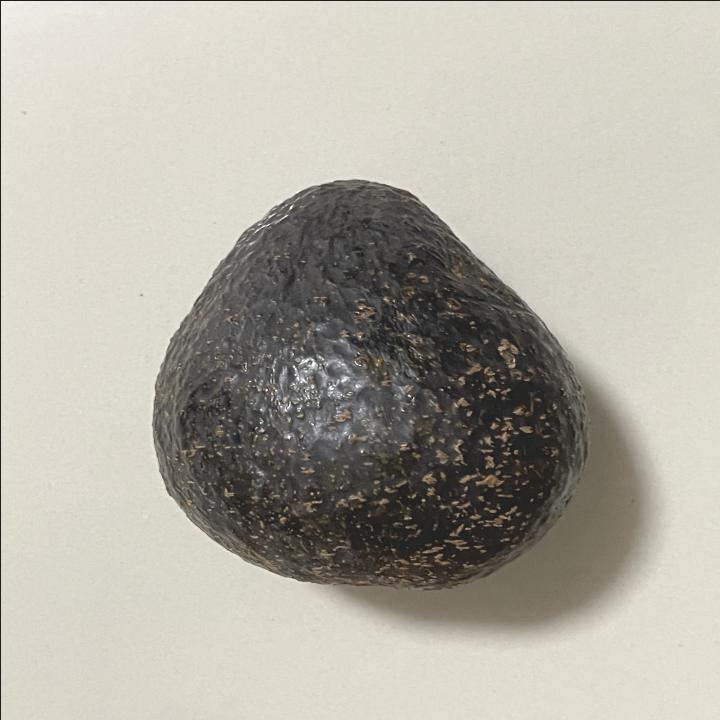Level2: (140, 170, 596, 596)
